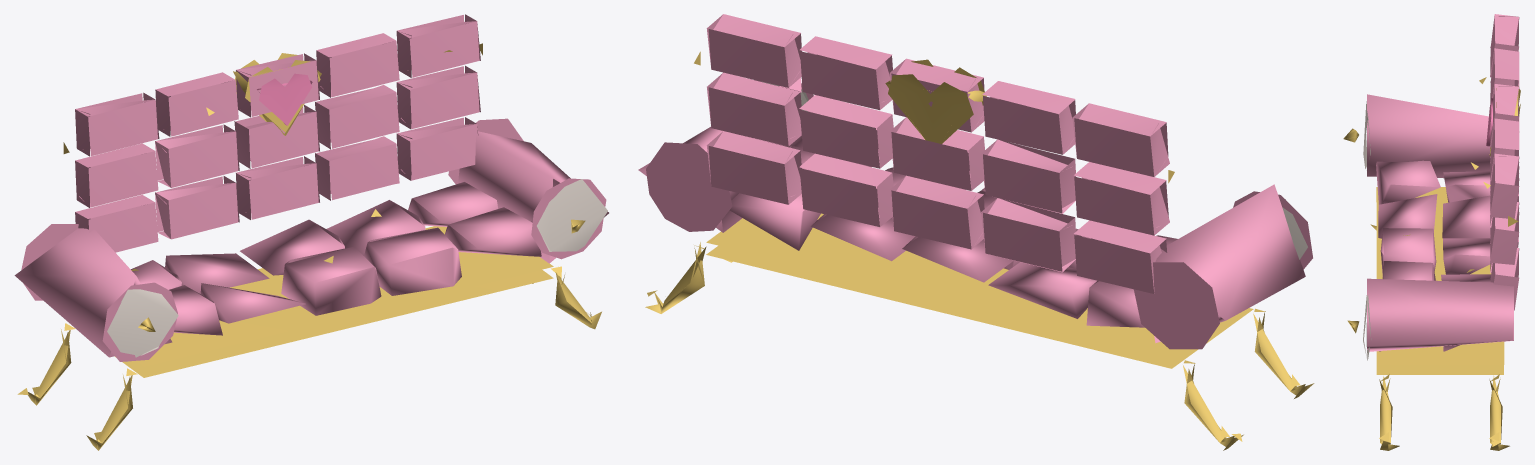
The model's file is lod_bench_tufted.glb.
The picture shows the model from 3 angles, left to right: view 1: azimuth 30°, elevation 25°; view 2: azimuth 150°, elevation 25°; view 3: azimuth 270°, elevation 25°; orthographic projection. The views are drawn at different scales.
Parts seen in each view (by area): view 1: bench_tufted; view 2: bench_tufted; view 3: bench_tufted.
Boxes of the visible parts, box(x1,y1,x2,y2) form: bench_tufted: box(14, 14, 608, 450); bench_tufted: box(638, 14, 1314, 450); bench_tufted: box(1343, 14, 1520, 450).
Size of the model in its own units: 2.36 by 1.2 by 0.7749.
